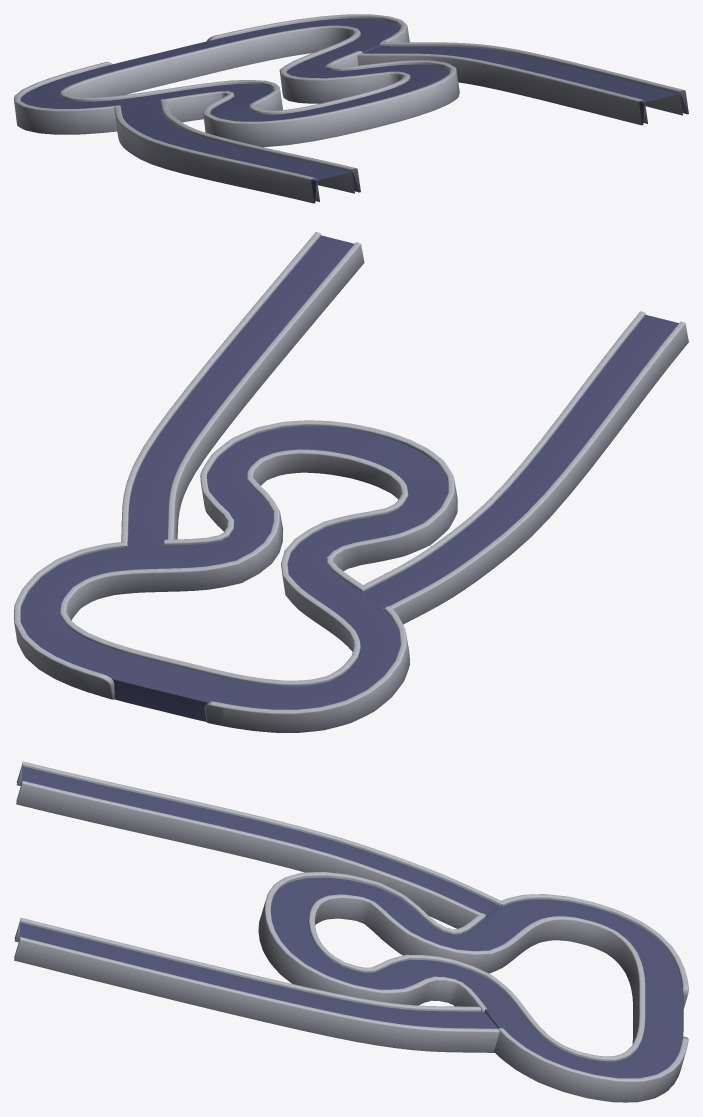
The model's file is Ray.fbx.
3 renders of one model, top to bottom at view 1: azimuth 30°, elevation 25°; view 2: azimuth 150°, elevation 25°; view 3: azimuth 270°, elevation 25°, orthographic. The views are drawn at different scales.
Parts seen in each view (by area): view 1: Ray, Ray_1, RaySup_1, RaySup; view 2: Ray, RaySup, RaySup_1, Ray_1; view 3: Ray, RaySup_1, RaySup, Ray_1.
Part boxes in pixels (x1,y1,x2,y2): Ray: [20, 18, 449, 121]; Ray_1: [14, 14, 459, 147]; RaySup_1: [357, 42, 688, 125]; RaySup: [114, 99, 360, 203]; Ray: [20, 426, 447, 721]; RaySup: [360, 311, 688, 624]; RaySup_1: [121, 232, 364, 547]; Ray_1: [14, 420, 457, 732]; Ray: [270, 877, 683, 1078]; RaySup_1: [14, 917, 499, 1052]; RaySup: [16, 761, 503, 928]; Ray_1: [258, 872, 688, 1102].
Bounding box in the file's own units: 5907 × 2796 × 9319.
